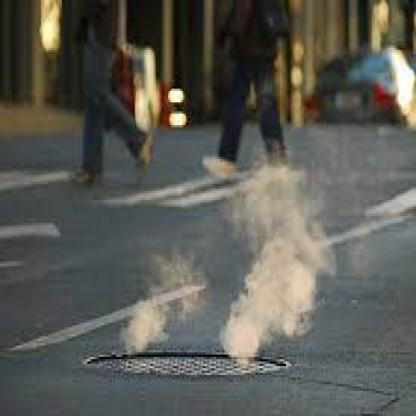closed manhole-not overflowing-: (84, 344, 292, 380)
